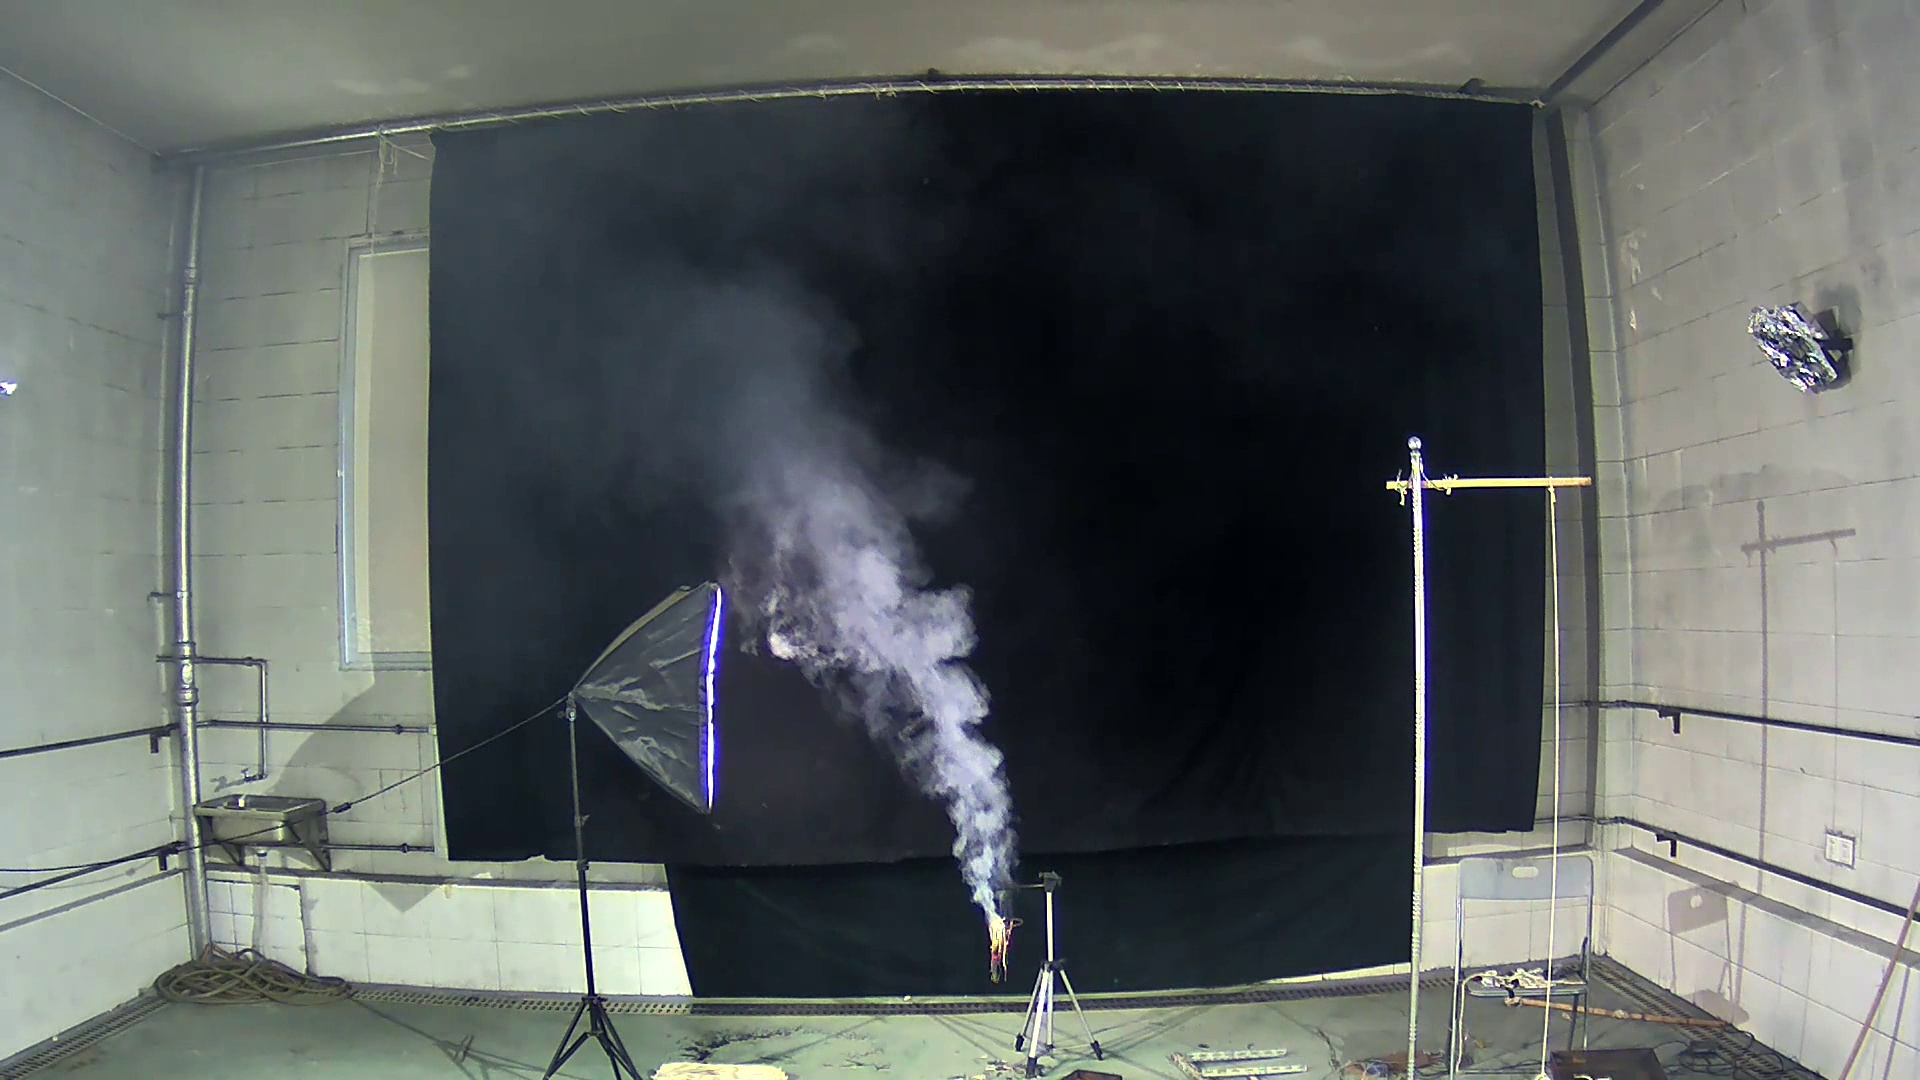smoke: (708, 257, 1019, 909)
